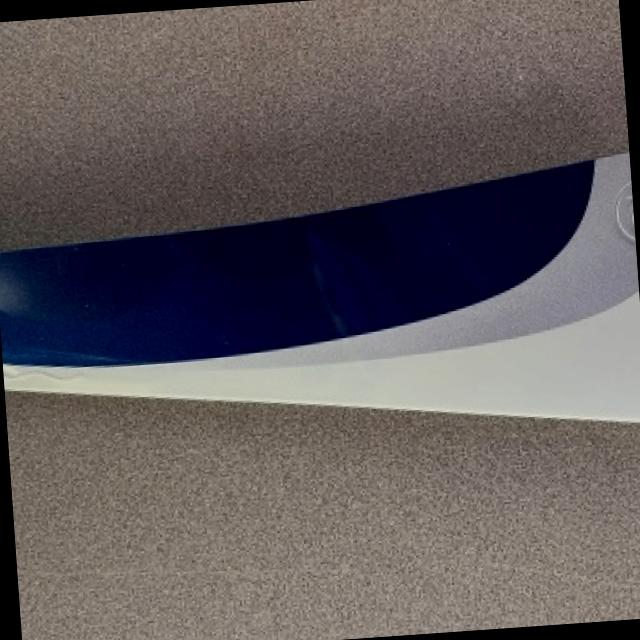healthy: (0, 151, 640, 416), (6, 391, 640, 489)
